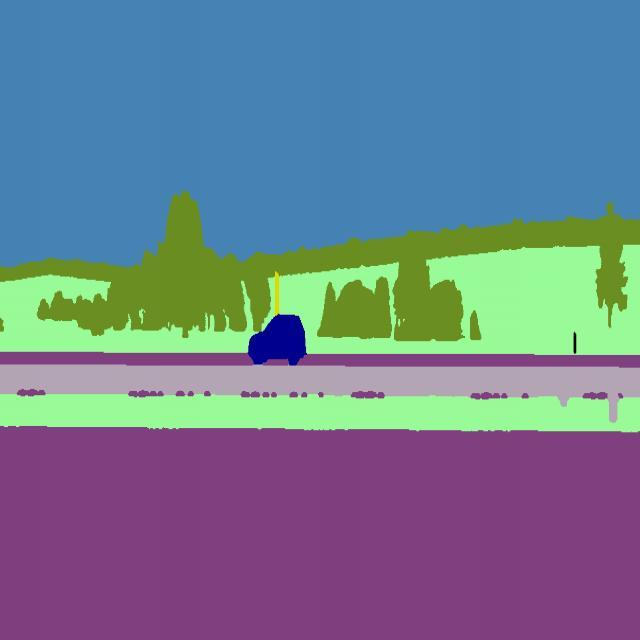safe: (248, 310, 308, 370)
